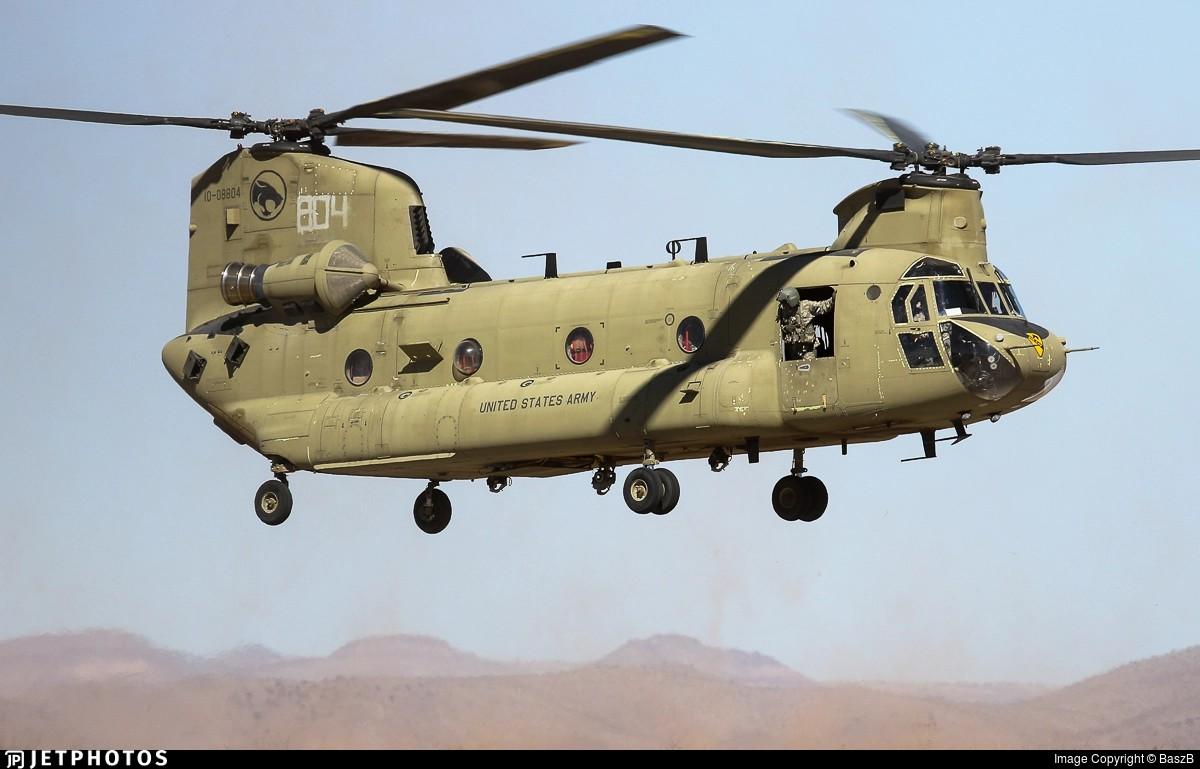chinook: (45, 16, 1150, 533)
